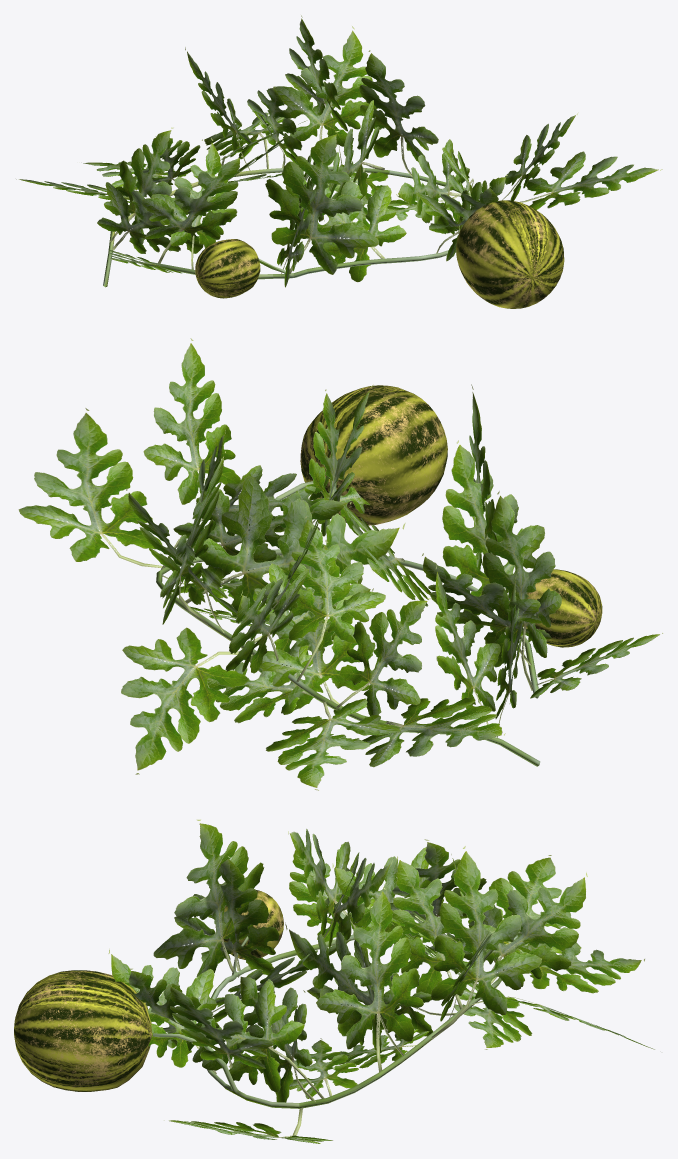
Rendered from watermelon_bush.glb.
3 renders of one model, top to bottom at view 1: azimuth 30°, elevation 25°; view 2: azimuth 150°, elevation 25°; view 3: azimuth 270°, elevation 25°, orthographic. The views are drawn at different scales.
Parts seen in each view (by area): view 1: BUSH, WATERMELON.001, WATERMELON; view 2: BUSH, WATERMELON.001, WATERMELON; view 3: BUSH, WATERMELON.001, WATERMELON.
Part boxes in pixels (<box>): BUSH: <box>16,15,662,287</box>; WATERMELON.001: <box>456,200,564,308</box>; WATERMELON: <box>195,239,260,298</box>; BUSH: <box>18,338,663,790</box>; WATERMELON.001: <box>300,385,447,525</box>; WATERMELON: <box>523,569,602,647</box>; BUSH: <box>108,819,654,1143</box>; WATERMELON.001: <box>14,970,152,1091</box>; WATERMELON: <box>215,890,283,959</box>.
Size of the model in its own units: 1.9 by 0.7448 by 1.81.
Materials: 2 (2 with a texture image).
